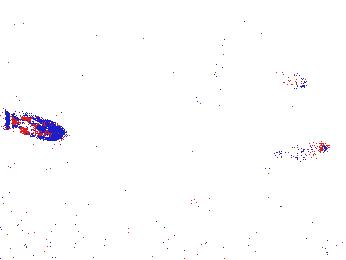X-ray fish: (14, 108, 58, 139), (266, 64, 309, 89), (106, 219, 132, 258)
red belly glassfish: (272, 141, 330, 165)
